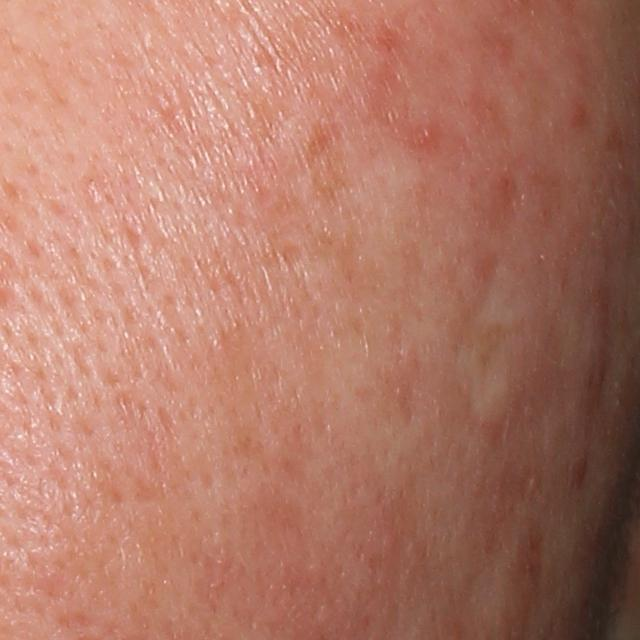other: (448, 261, 519, 428)
papule: (570, 105, 590, 126)
